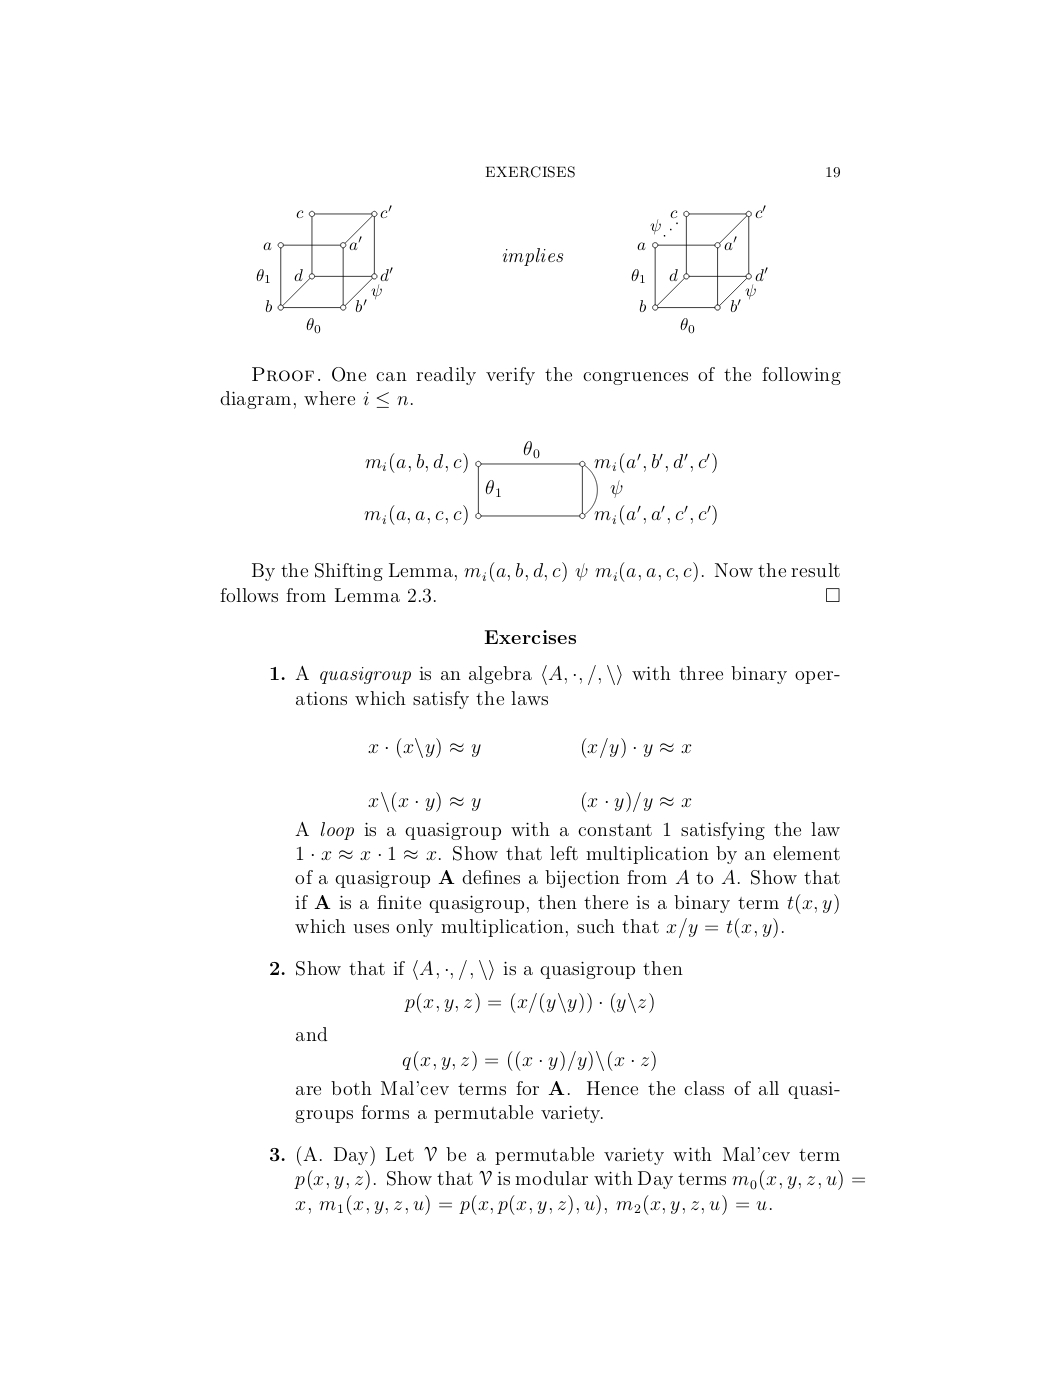figure: (364, 440, 716, 525), (256, 205, 392, 312), (631, 205, 765, 312)
formula: (295, 1194, 771, 1215), (368, 737, 691, 758), (368, 791, 691, 812), (402, 1050, 655, 1071), (403, 992, 653, 1013)
